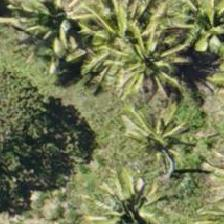coconut_tree: (121, 92, 211, 182), (105, 15, 195, 105), (8, 0, 98, 64), (69, 0, 159, 64), (100, 176, 190, 223), (160, 0, 223, 65)
